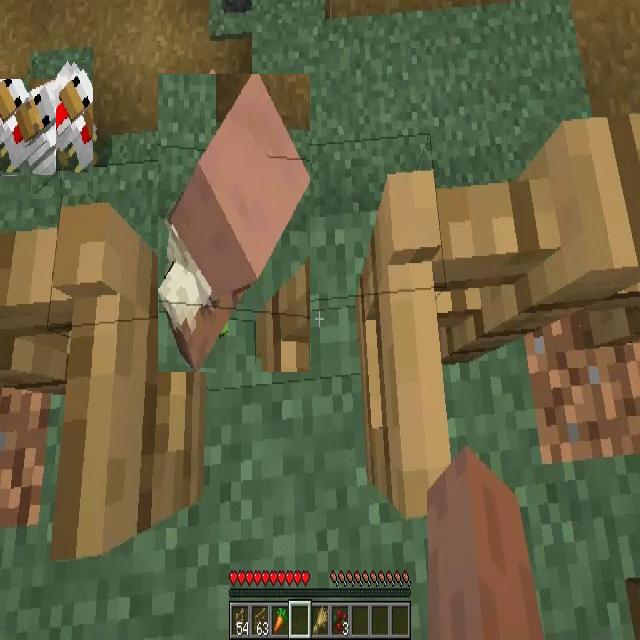duck: (31, 60, 93, 194), (0, 79, 56, 175)
people: (158, 74, 310, 372)
